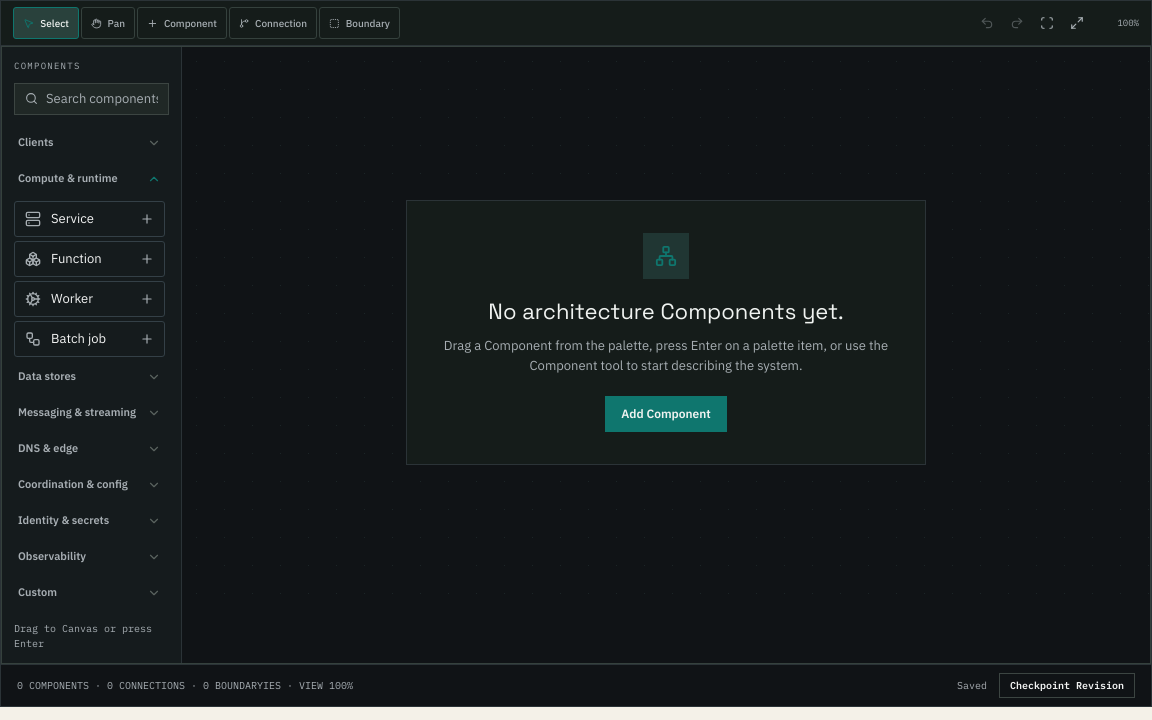
Scenario: ArchitectureCanvas › loads the document and exposes keyboard-accessible component insertion
Expected: the element named "Canvas tools" is shown, [13,7,400,39]
Click the button "Service". click: [90, 218]
box: [14,200,165,236]
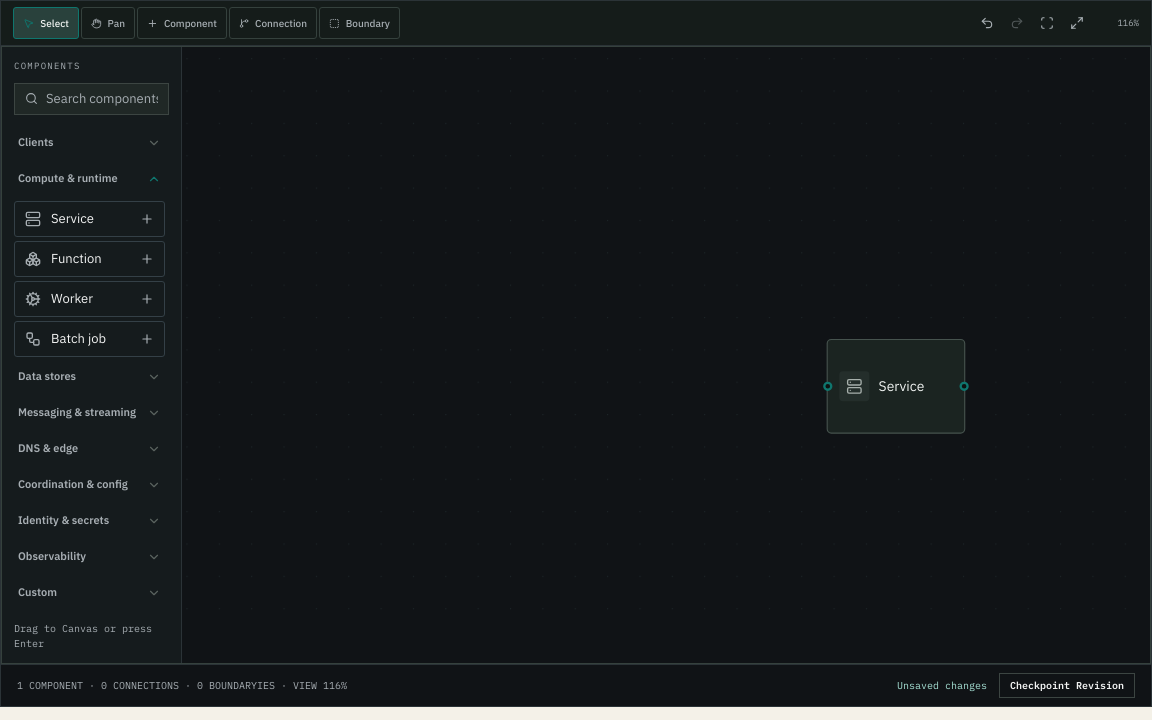
Expected: the message reads "Unsaved changes", [897,678,987,692]
